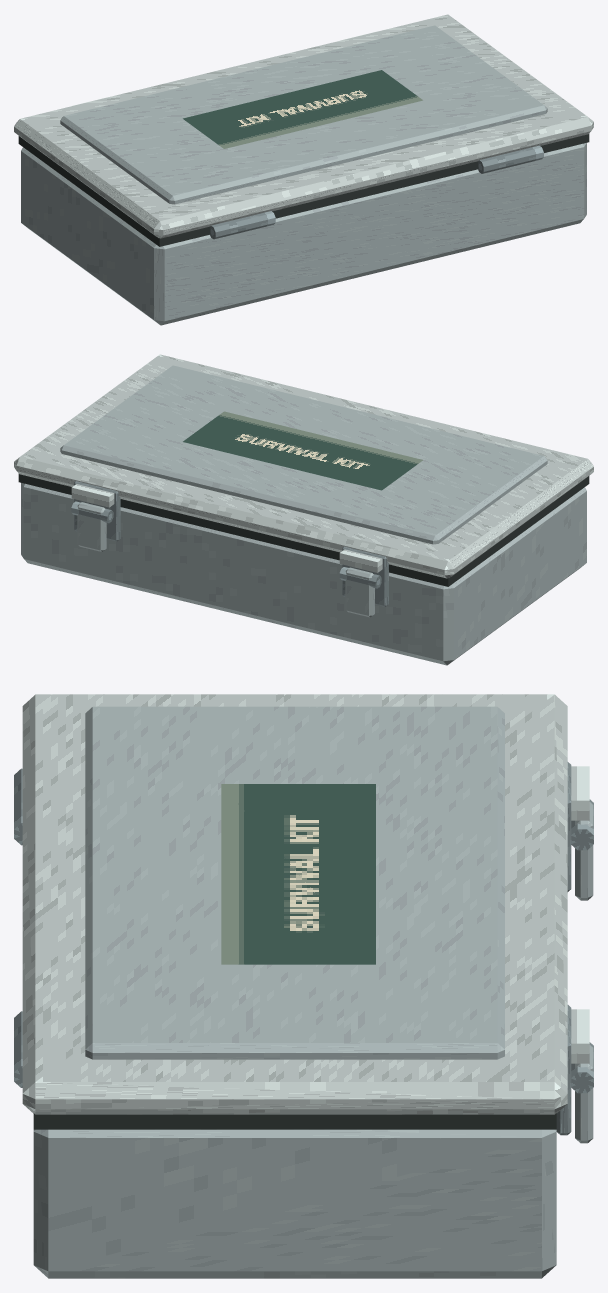
Rendered from survival_kit_box.glb.
The picture shows the model from 3 angles, top to bottom: view 1: azimuth 30°, elevation 25°; view 2: azimuth 150°, elevation 25°; view 3: azimuth 270°, elevation 25°; orthographic projection. The views are drawn at different scales.
Parts seen in each view (by area): view 1: block_pressed aluminum base, block_stamped lid panel, block_rolled aluminum lid, block_survival kit enamel badge, block_dark lid gasket, block_rear hinge barrel (×2); view 2: block_pressed aluminum base, block_stamped lid panel, block_rolled aluminum lid, block_survival kit enamel badge, block_dark lid gasket, block_over-center latch lever (×2), block_latch mounting plate (×2), block_keeper (×2); view 3: block_stamped lid panel, block_rolled aluminum lid, block_pressed aluminum base, block_survival kit enamel badge, block_dark lid gasket, block_over-center latch lever (×2), block_keeper (×2), block_latch mounting plate.
Part boxes in pixels (x1,y1,x2,y2): block_pressed aluminum base: (21,143,586,325); block_stamped lid panel: (60,25,547,204); block_rolled aluminum lid: (14,14,593,238); block_survival kit enamel badge: (183,70,422,148); block_dark lid gasket: (18,134,589,246); block_rear hinge barrel (×2): (210,145,543,239); block_pressed aluminum base: (21,483,586,665); block_stamped lid panel: (60,365,547,544); block_rolled aluminum lid: (14,354,593,578); block_survival kit enamel badge: (183,411,422,490); block_dark lid gasket: (18,474,589,586); block_over-center latch lever (×2): (77,502,374,617); block_latch mounting plate (×2): (74,481,388,606); block_keeper (×2): (71,484,382,572); block_stamped lid panel: (85,706,504,1059); block_rolled aluminum lid: (22,694,567,1114); block_pressed aluminum base: (33,1129,556,1278); block_survival kit enamel badge: (221,784,375,964); block_dark lid gasket: (33,1113,556,1129); block_over-center latch lever (×2): (575,802,593,1143); block_keeper (×2): (571,766,589,1063); block_latch mounting plate: (556,1005,571,1135).
Size of the model in its own units: 0.256 by 0.0642 by 0.1575.
2 materials, 2 textured.
